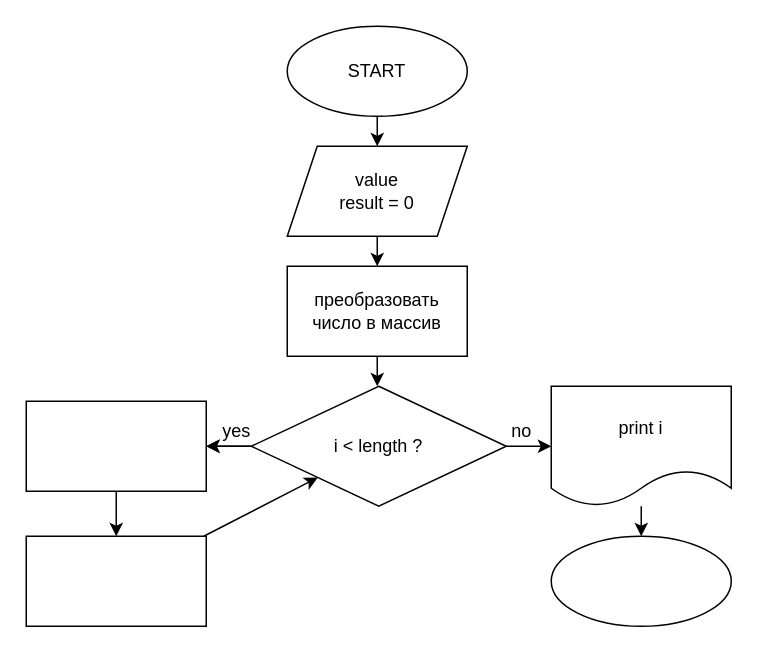
The diagram is 758 pixels wide and 653 high, and some of its shapes have lost their labels. The shapes that lost their labels are listed below. From the top down, each one's box as (x1, y1, x2, y2) in pixels, then its label:
(25, 400, 206, 491): result += i[0]
(25, 535, 206, 626): i++
(550, 535, 731, 626): END
